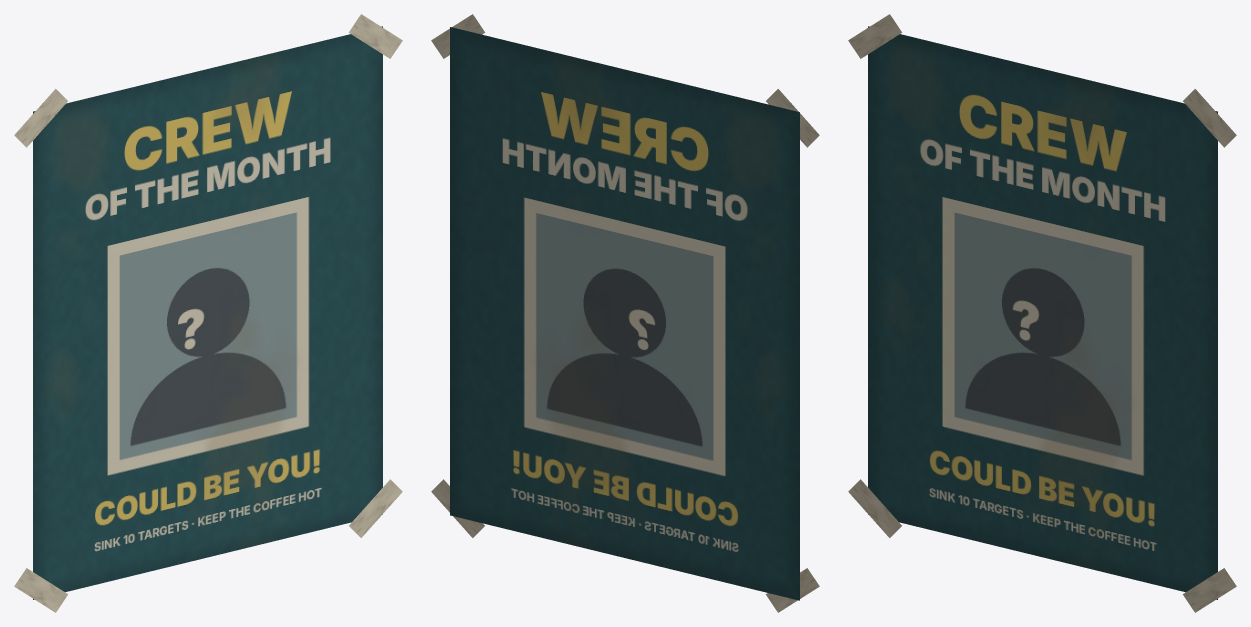
Rendered from Poster_Crew.glb.
3 renders of one model, left to right at view 1: azimuth 30°, elevation 25°; view 2: azimuth 150°, elevation 25°; view 3: azimuth 330°, elevation 25°, orthographic.
Parts seen in each view (by area): view 1: Poster_Crew_Body; view 2: Poster_Crew_Body; view 3: Poster_Crew_Body.
Part boxes in pixels (x1,y1,x2,y2): Poster_Crew_Body: (14,14,402,612); Poster_Crew_Body: (431,14,819,612); Poster_Crew_Body: (848,14,1236,612).
Size of the model in its own units: 0.4997 by 0.6441 by 0.001.
Materials: 2 (2 with a texture image).
